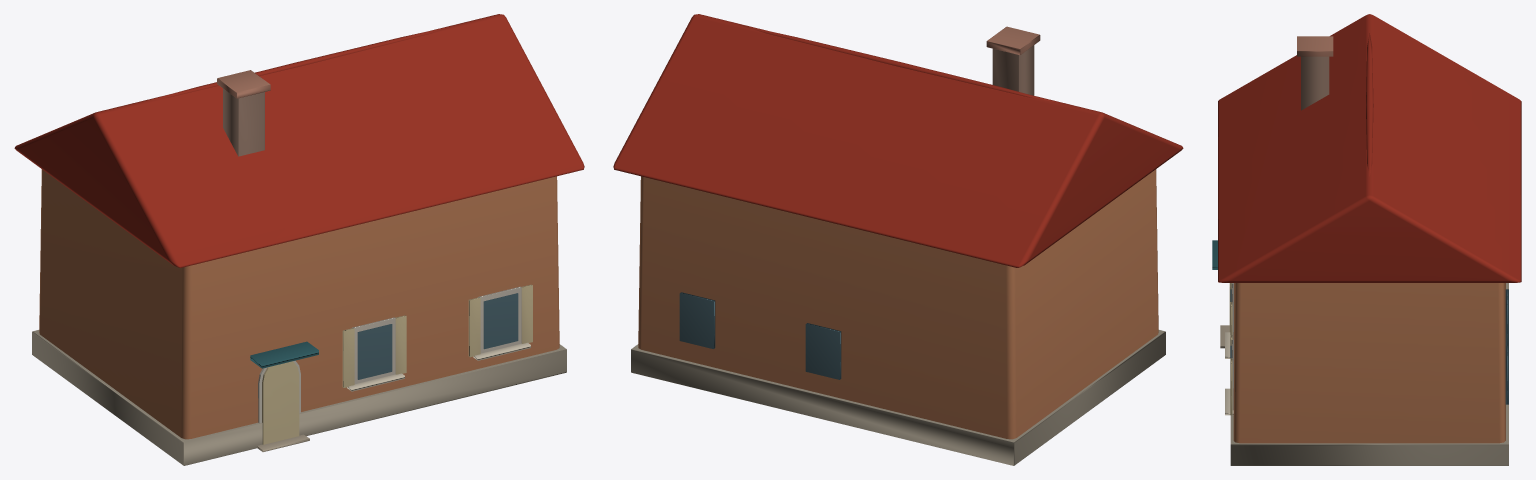
File: house_05.glb
3 renders of one model, left to right at view 1: azimuth 30°, elevation 25°; view 2: azimuth 150°, elevation 25°; view 3: azimuth 270°, elevation 25°, orthographic. The views are drawn at different scales.
Visible parts, largest first — view 1: house_05; view 2: house_05; view 3: house_05.
Boxes of the visible parts, box(x1,y1,x2,y2) form: house_05: box(14, 14, 584, 465); house_05: box(613, 14, 1183, 465); house_05: box(1212, 14, 1521, 465).
Size of the model in its own units: 10.9 by 8.26 by 7.71.
